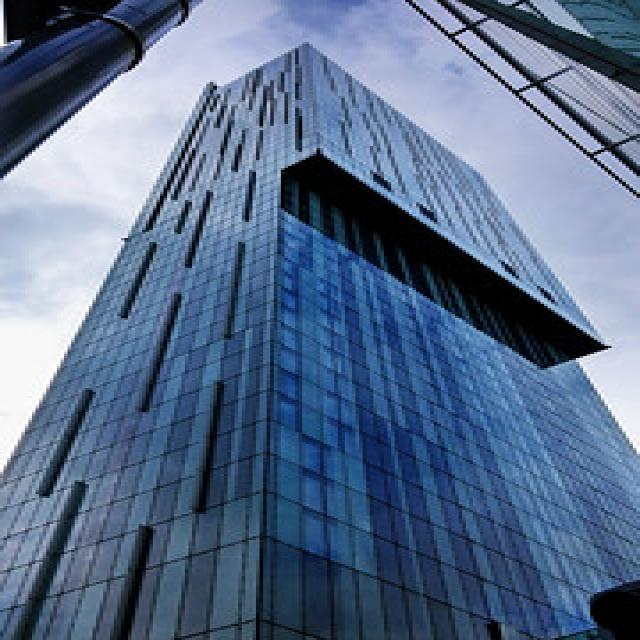Normal_building: (18, 38, 640, 640)
